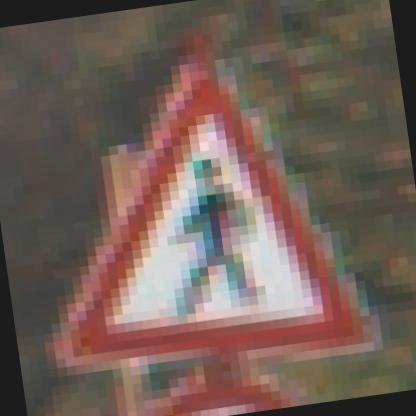crosswalk: (28, 47, 393, 410)
